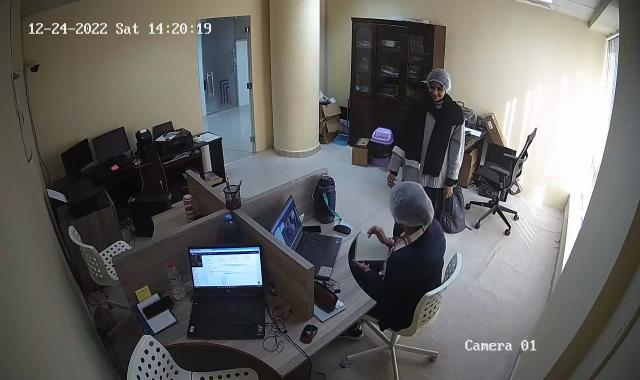hairnet: (388, 182, 436, 229), (425, 67, 453, 103)
